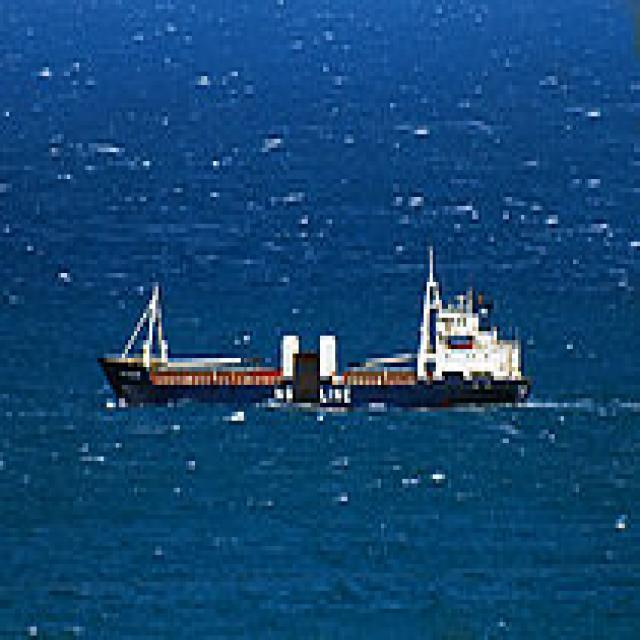Ship: (96, 274, 535, 417)
